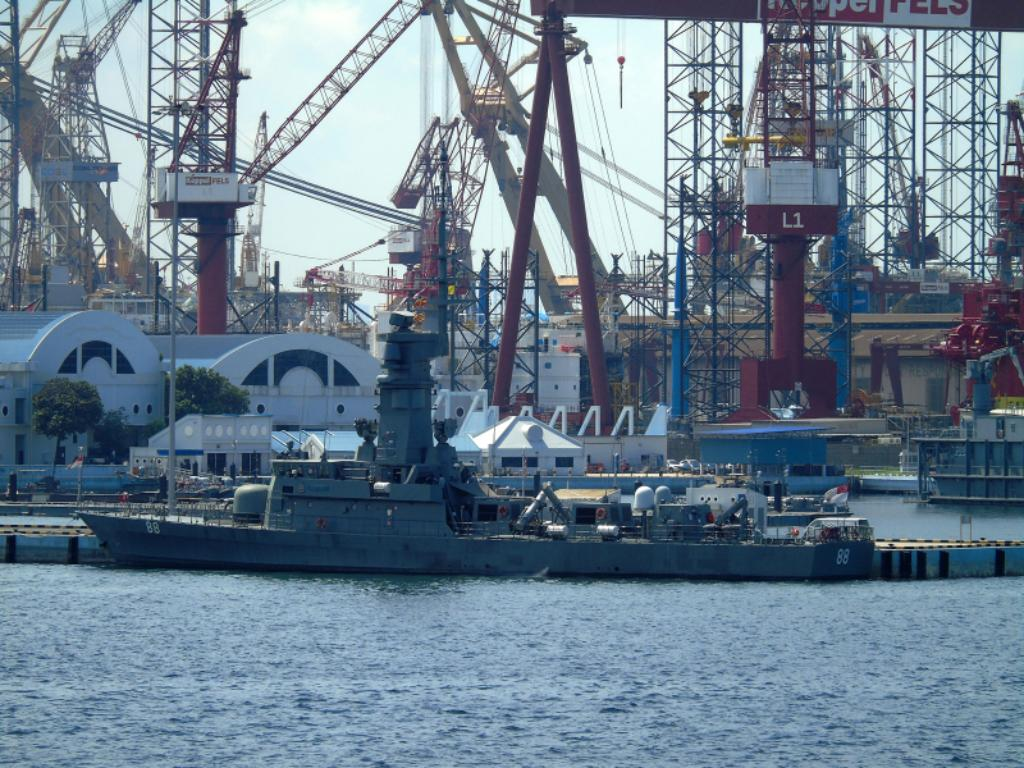Warship: (74, 307, 878, 584)
